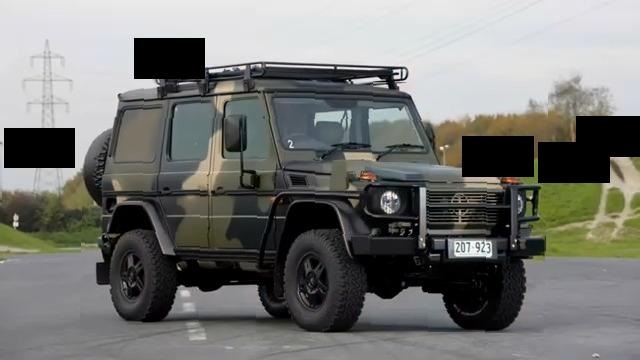MIL_HMMWV: (81, 78, 547, 331)
